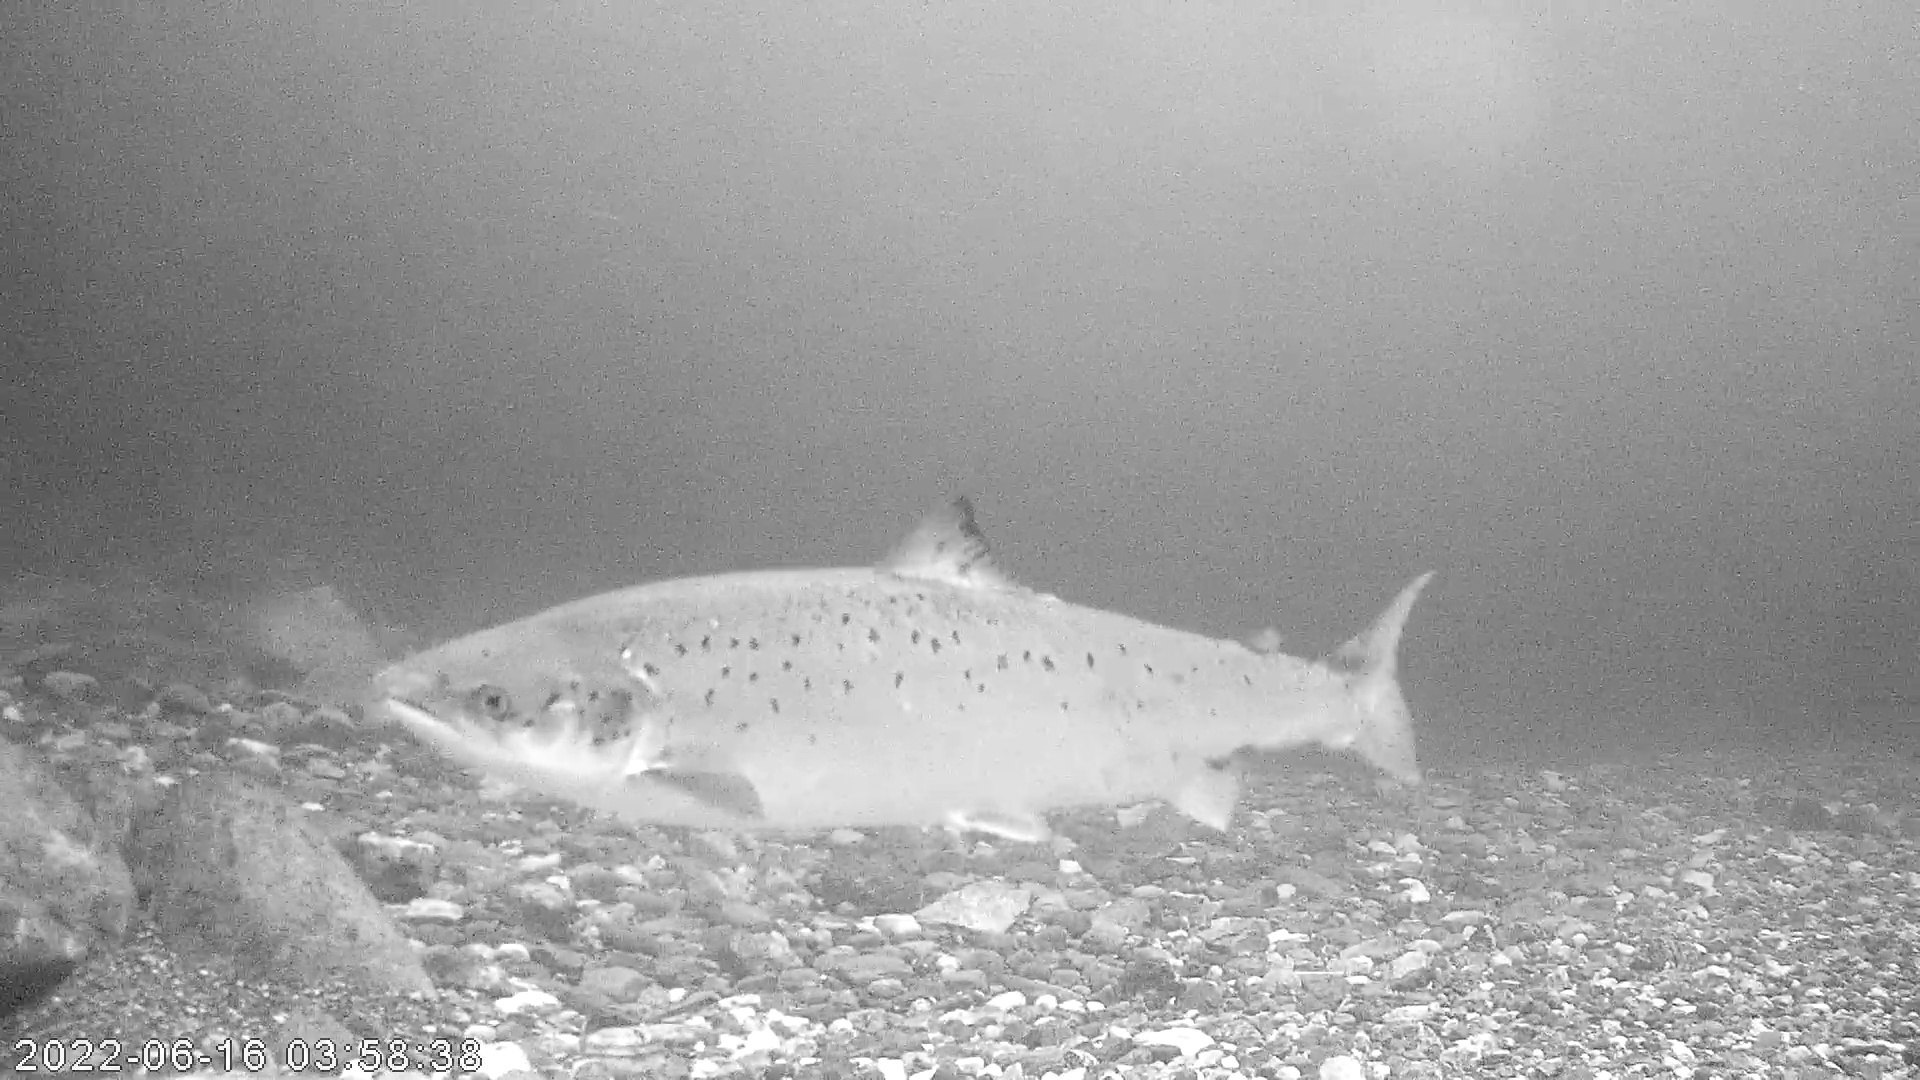salmon: (369, 491, 1435, 847)
